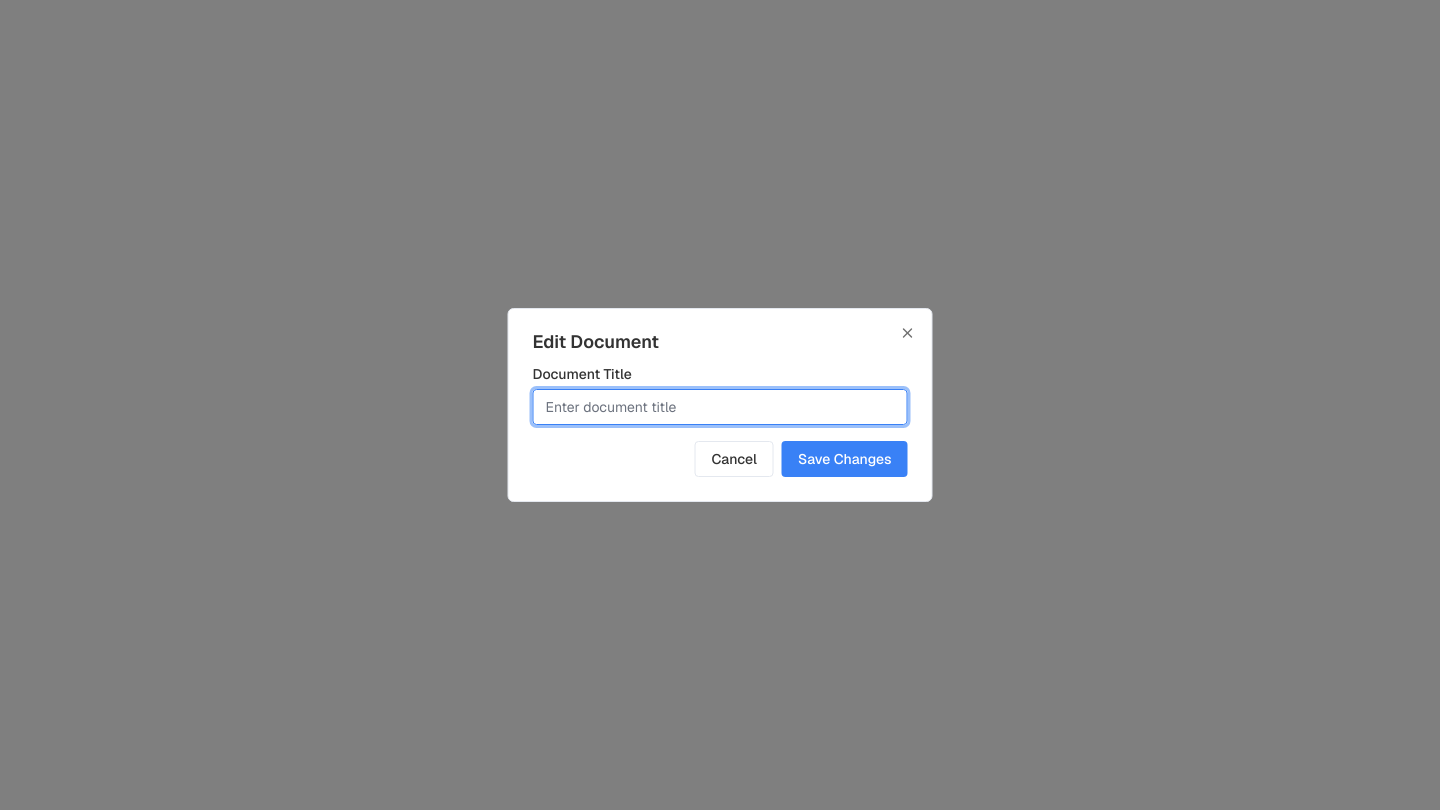
CardDialog › should disable Save Changes button while submitting
The width and height of the screenshot is (1440, 810).
Type "New Title" into the field labelled "Document Title".
click(720, 407); type("New Title")  # box [532,389,908,425]
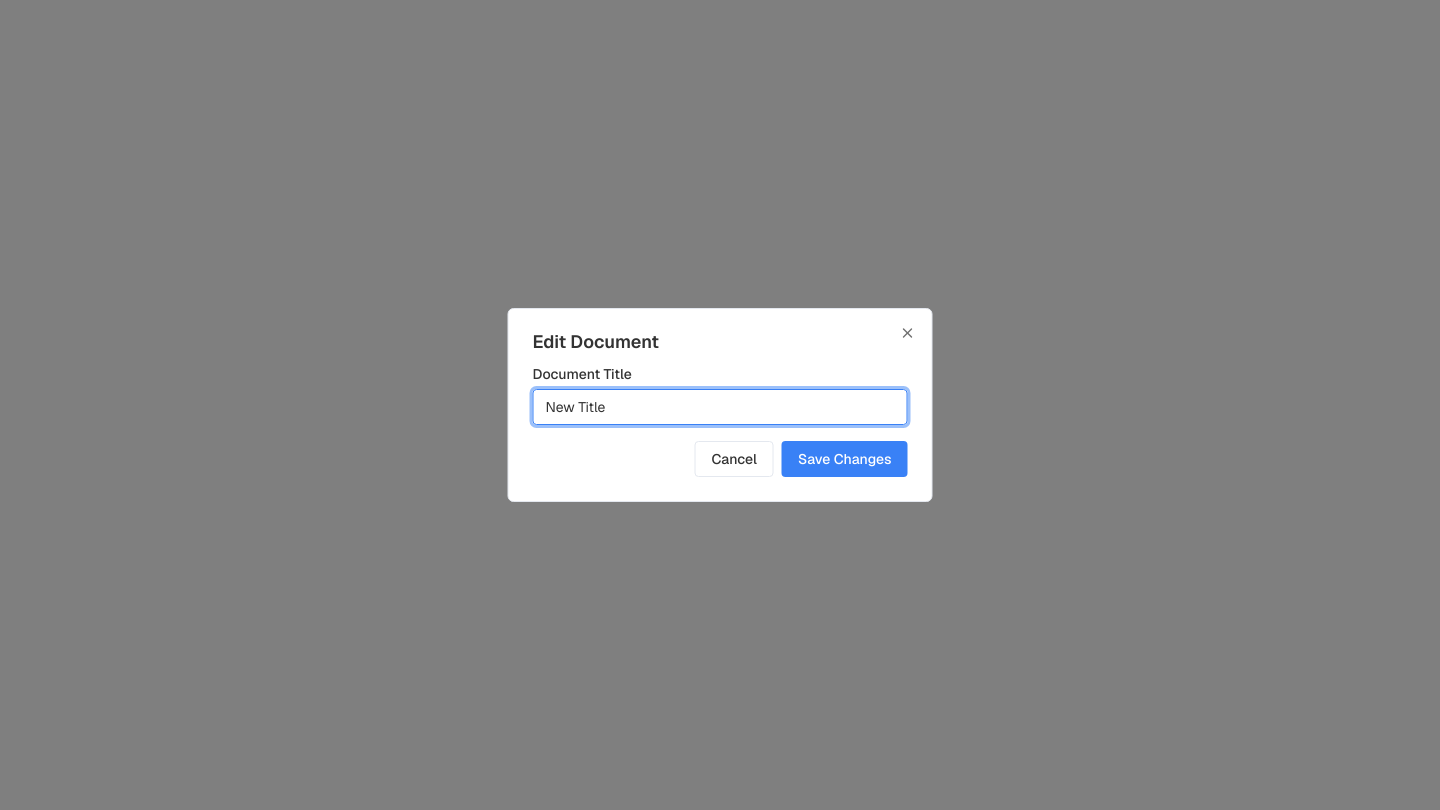
Click the button "Save Changes".
click(845, 459)  # box [782,441,908,477]
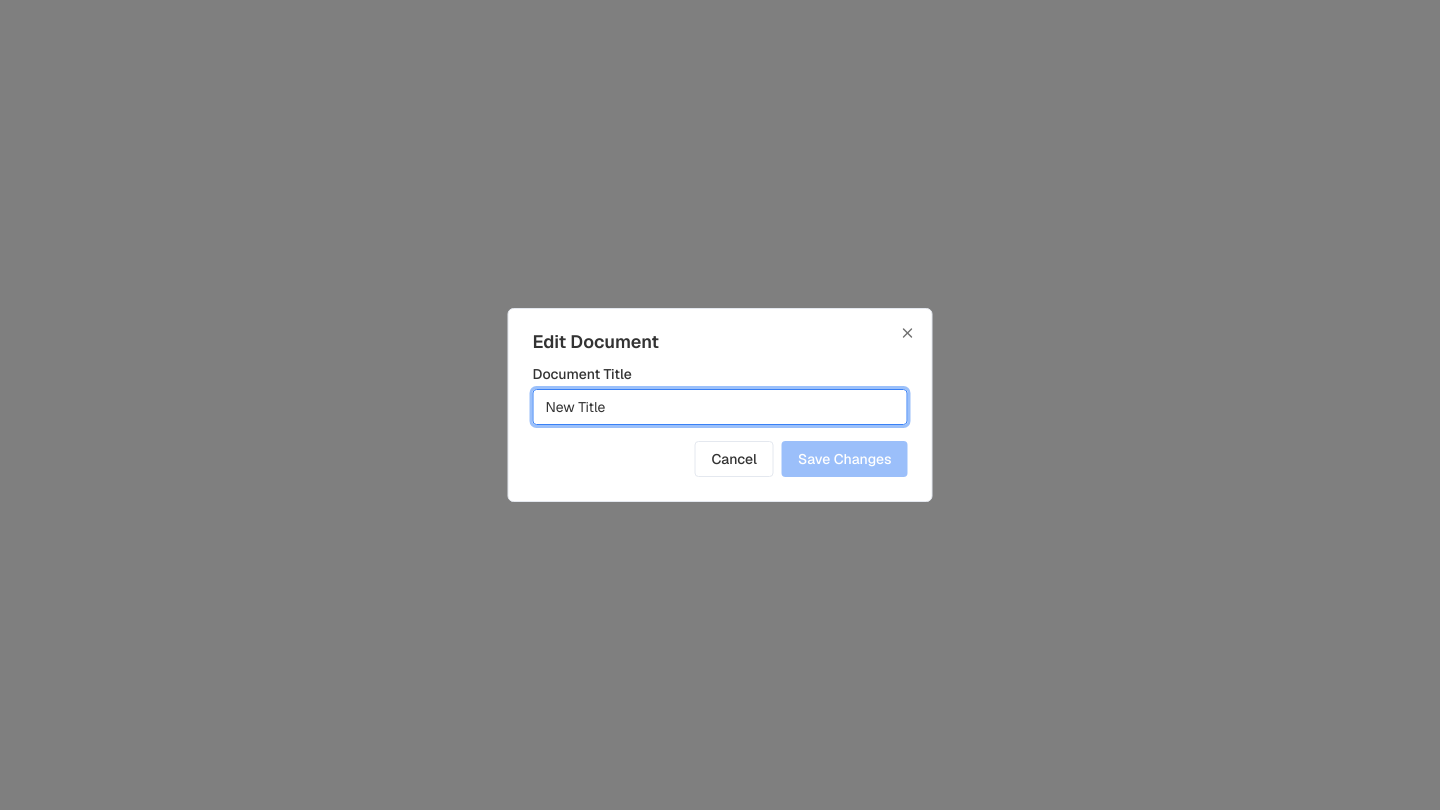
Expected: the button "Save Changes" is disabled, [782,441,908,477]
